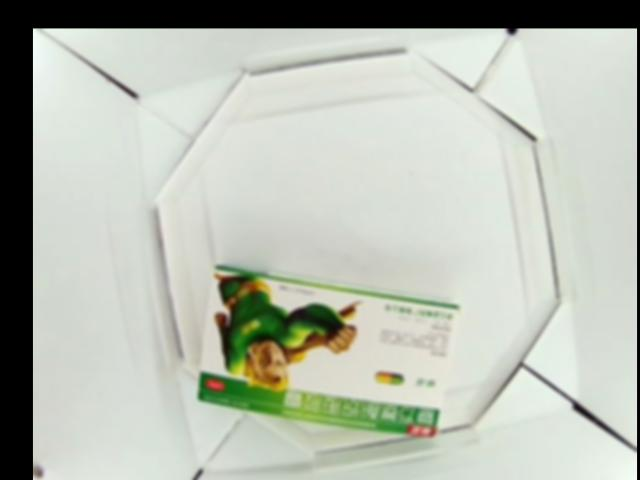Medicine: (194, 265, 460, 440)
